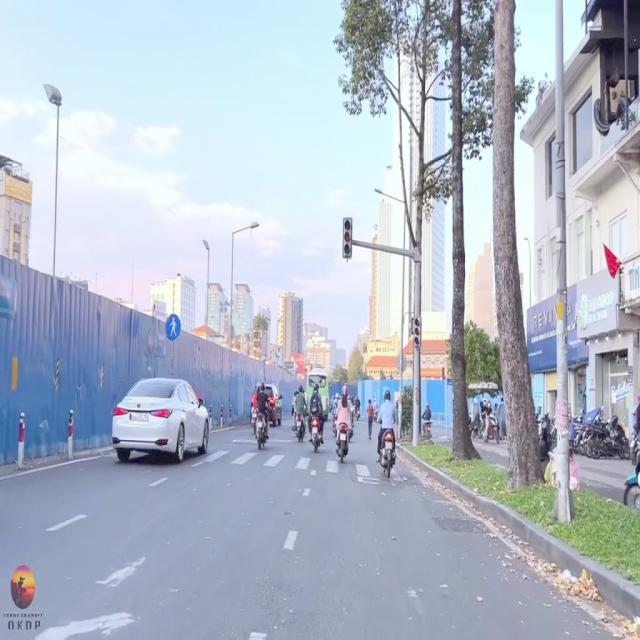duong_cho_nguoi_di_bo: (166, 313, 180, 342)
